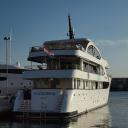cruises: (12, 13, 114, 124)
